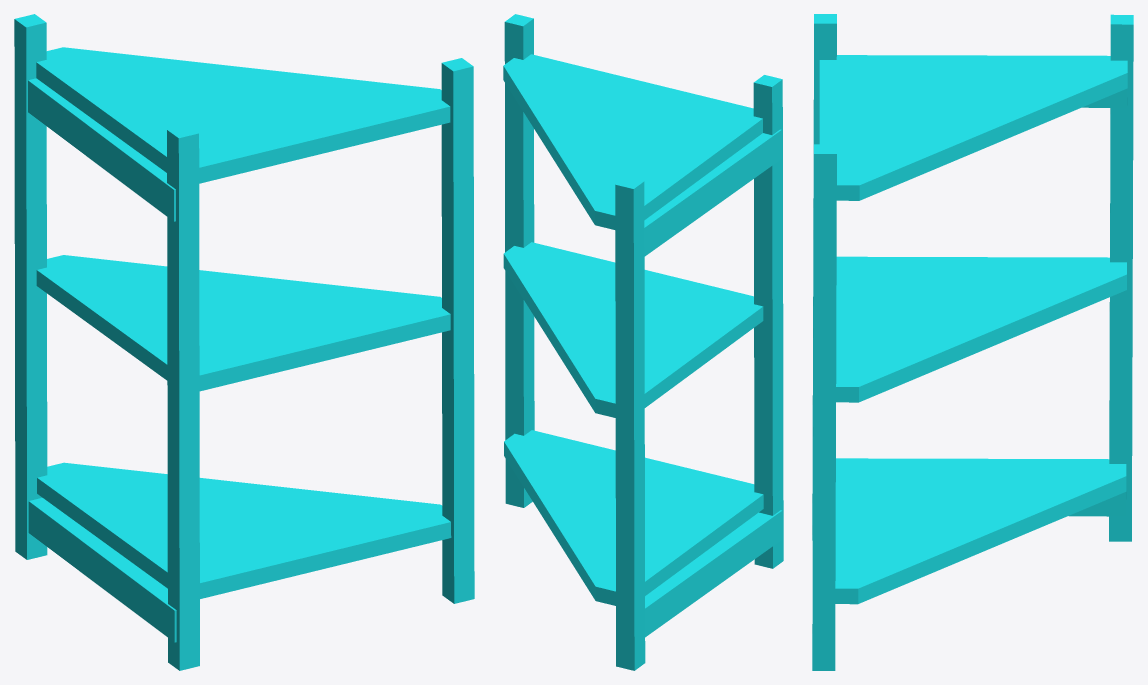
The model's file is triangle_shelf.glb.
The picture shows the model from 3 angles, left to right: view 1: azimuth 30°, elevation 25°; view 2: azimuth 150°, elevation 25°; view 3: azimuth 270°, elevation 25°; orthographic projection. The views are drawn at different scales.
Visible parts, largest first — view 1: shelf board_8, shelf board_6, shelf board_5, shelf leg_2, shelf leg_3, shelf leg_1, side board_4, side board_7; view 2: shelf board_8, shelf board_6, shelf board_5, shelf leg_1, shelf leg_2, shelf leg_3, side board_4, side board_7; view 3: shelf board_8, shelf board_5, shelf board_6, shelf leg_3, shelf leg_1, shelf leg_2, side board_4, side board_7.
Part boxes in pixels (box(x1,y1,x2,y2)): shelf board_8: box(36, 47, 450, 183); shelf board_6: box(36, 255, 450, 391); shelf board_5: box(37, 462, 451, 598); shelf leg_2: box(167, 125, 199, 670); shelf leg_3: box(441, 58, 474, 603); shelf leg_1: box(14, 14, 47, 559); side board_4: box(28, 498, 176, 642); side board_7: box(28, 78, 175, 221); shelf board_8: box(503, 54, 762, 229); shelf board_6: box(503, 242, 763, 417); shelf board_5: box(504, 430, 763, 605); shelf leg_1: box(615, 177, 645, 670); shelf leg_2: box(753, 75, 783, 568); shelf leg_3: box(504, 14, 534, 507); side board_4: box(645, 510, 782, 637); side board_7: box(644, 129, 781, 256); shelf board_8: box(819, 55, 1127, 200); shelf board_5: box(835, 458, 1126, 604); shelf board_6: box(836, 256, 1126, 402); shelf leg_3: box(812, 144, 836, 670); shelf leg_1: box(1109, 14, 1133, 541); shelf leg_2: box(812, 14, 836, 540); side board_4: box(1069, 492, 1126, 516); side board_7: box(1082, 88, 1127, 107).
Bounding box in the file's own units: 0.5838 × 1 × 0.5631.
